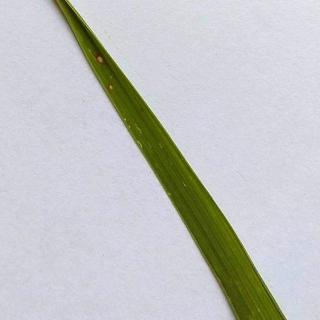Blast: (91, 49, 111, 68), (103, 76, 119, 96)
